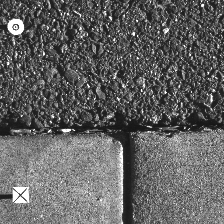circle: (7, 18, 24, 35)
crack: (1, 120, 223, 138)
square: (12, 187, 29, 203)
